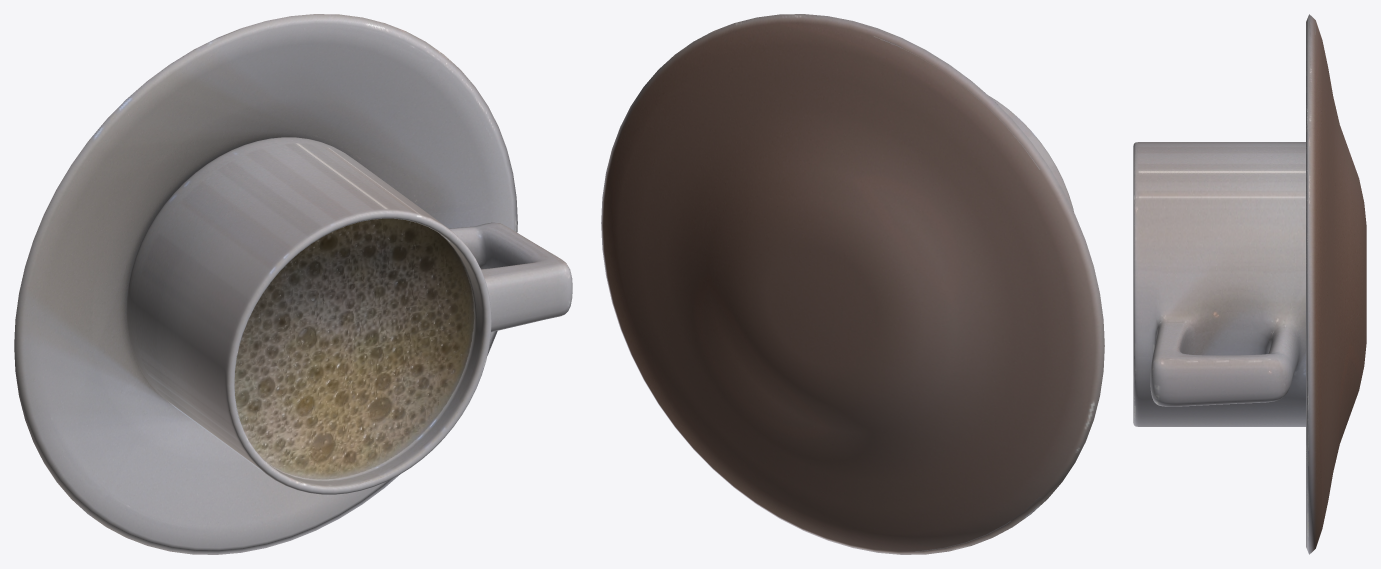
The model's file is cup.gltf.
The picture shows the model from 3 angles, left to right: view 1: azimuth 30°, elevation 25°; view 2: azimuth 150°, elevation 25°; view 3: azimuth 270°, elevation 25°; orthographic projection. The views are drawn at different scales.
Visible parts, largest first — view 1: cup_with saucer; view 2: cup_with saucer; view 3: cup_with saucer.
Part boxes in pixels (x1,y1,x2,y2): cup_with saucer: (14, 14, 572, 554); cup_with saucer: (601, 14, 1104, 554); cup_with saucer: (1133, 14, 1366, 554).
Size of the model in its own units: 65.3 by 65.3 by 28.12.
1 material, 1 textured.
